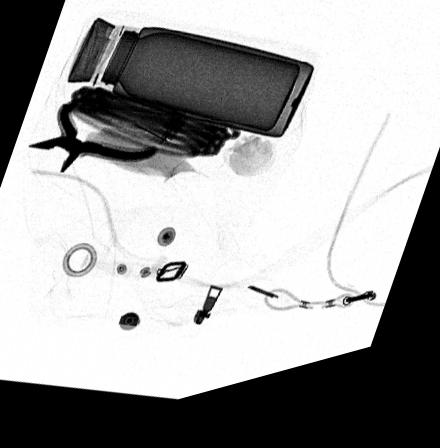Pliers: (25, 104, 157, 177)
